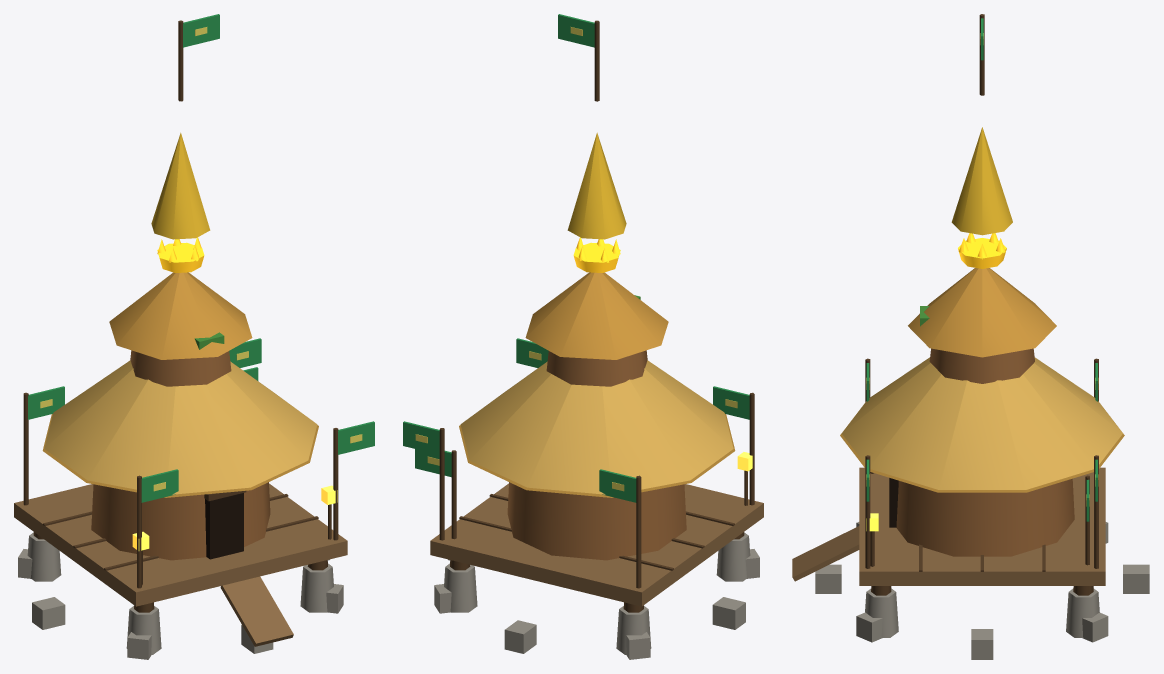
Rendered from level5.glb.
3 views of the same model, side by side, from view 1: azimuth 30°, elevation 25°; view 2: azimuth 150°, elevation 25°; view 3: azimuth 270°, elevation 25° (orthographic).
Size of the model in its own units: 3.8 by 7.21 by 4.06.
